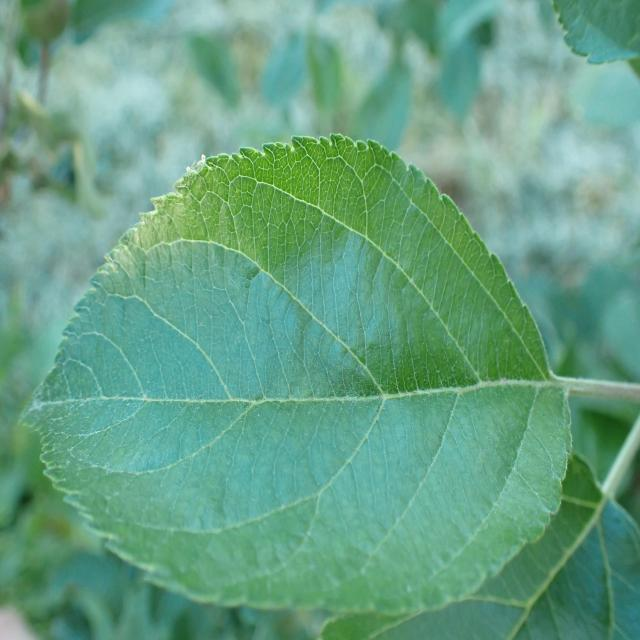healthy: (18, 134, 572, 612), (318, 450, 640, 639), (551, 0, 640, 65)
